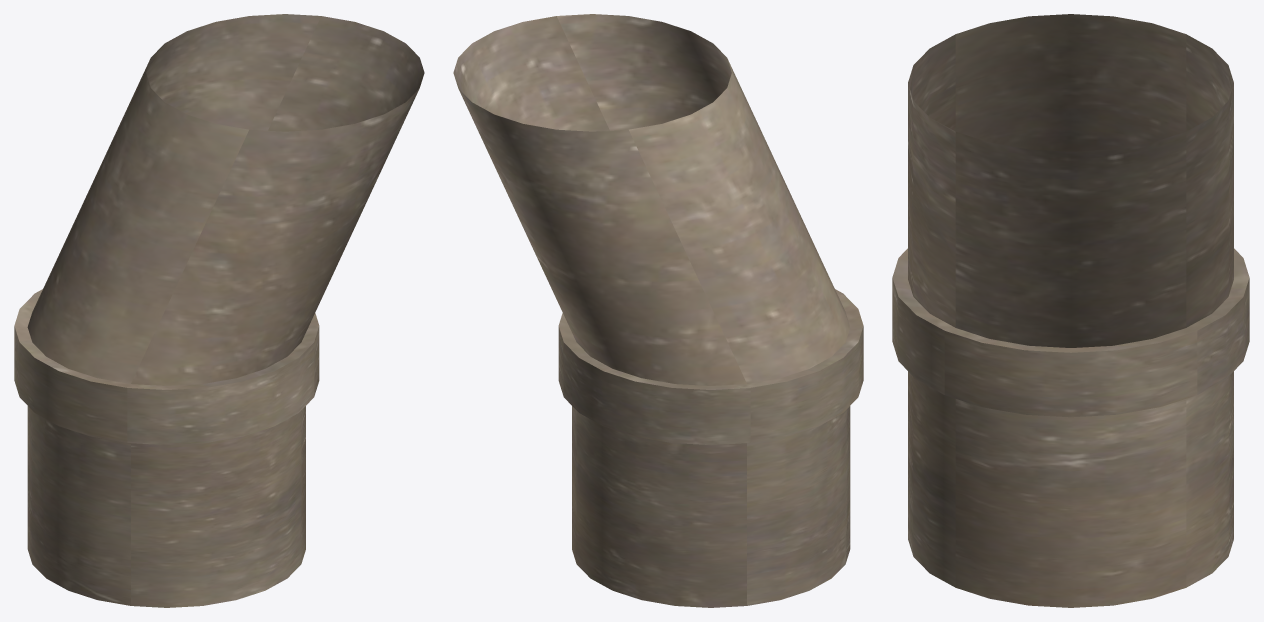
File: Pipe01_04.fbx
3 views of the same model, side by side, from view 1: azimuth 30°, elevation 25°; view 2: azimuth 150°, elevation 25°; view 3: azimuth 270°, elevation 25° (orthographic). The views are drawn at different scales.
Parts seen in each view (by area): view 1: Cylinder (42); view 2: Cylinder (42); view 3: Cylinder (42).
Part boxes in pixels (bbox=[...]): Cylinder (42): bbox=[14, 14, 424, 607]; Cylinder (42): bbox=[453, 14, 863, 607]; Cylinder (42): bbox=[892, 14, 1249, 607].
Bounding box in the file's own units: 38.84 × 44.74 × 27.64.
